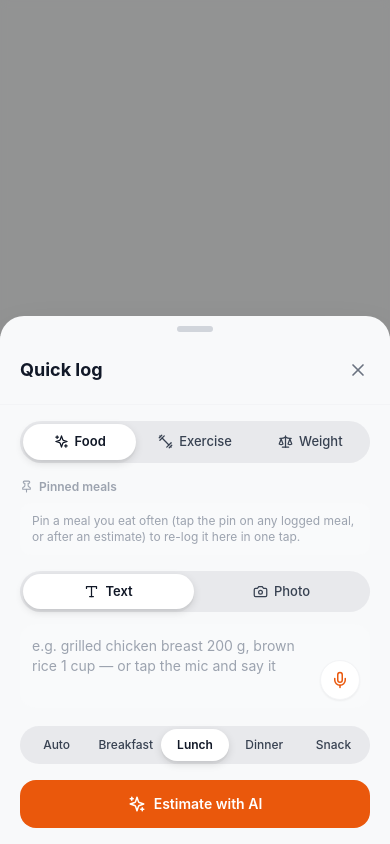
it: LogModal voice input › adds dictation after what was already typed
The width and height of the screenshot is (390, 844).
Replace the text in the text box with "coffee" at x=195, y=666, box [20,624,370,708]
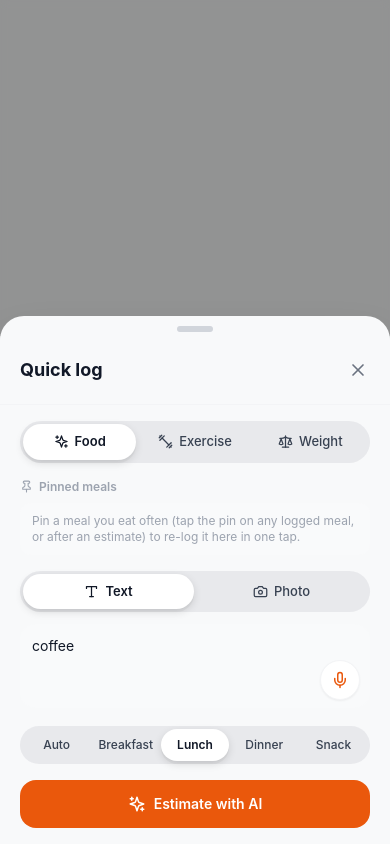
Click the button named "Speak your meal" at x=340, y=680, box [320,660,360,700]
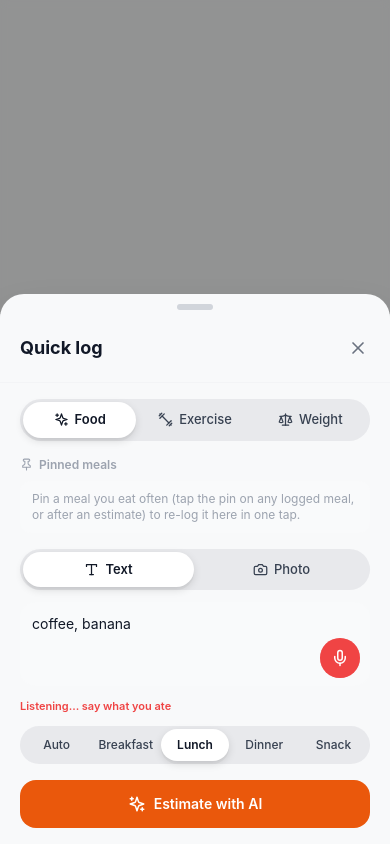
Expected: the text box holds "coffee, banana", [20,602,370,686]
